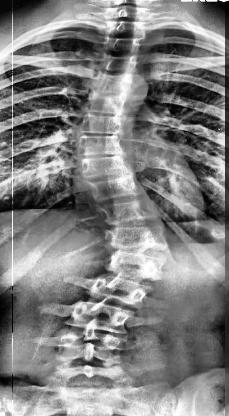Vertebrae: (67, 298, 133, 332), (92, 272, 150, 308), (56, 332, 124, 362), (99, 199, 163, 228), (109, 251, 169, 281), (106, 225, 170, 251), (90, 176, 146, 204), (79, 156, 139, 178), (80, 135, 126, 159), (80, 115, 130, 137), (88, 88, 128, 112), (94, 73, 134, 95), (98, 54, 140, 74), (104, 36, 145, 56), (107, 22, 146, 40)
